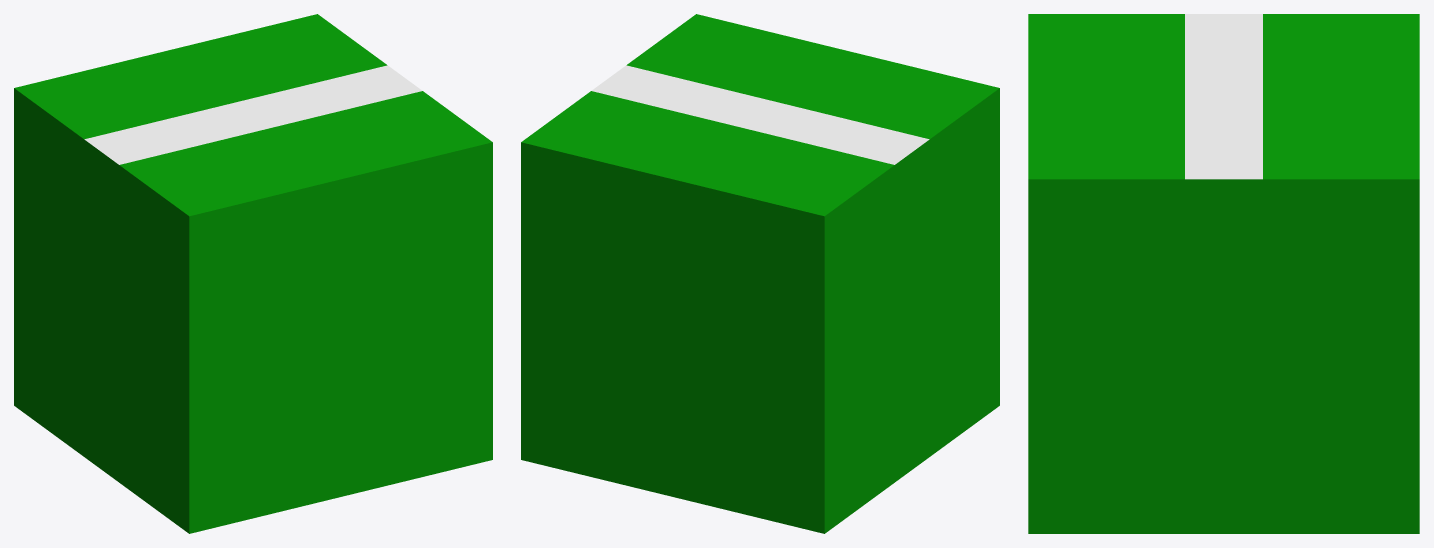
File: FiveStraight.obj
The picture shows the model from 3 angles, left to right: view 1: azimuth 30°, elevation 25°; view 2: azimuth 150°, elevation 25°; view 3: azimuth 270°, elevation 25°; orthographic projection. The views are drawn at different scales.
Parts seen in each view (by area): view 1: Cube_Cube_Material.002, Cube_Cube_Material.001; view 2: Cube_Cube_Material.002, Cube_Cube_Material.001; view 3: Cube_Cube_Material.002, Cube_Cube_Material.001.
Boxes of the visible parts, bbox=[...] form: Cube_Cube_Material.002: bbox=[14, 14, 492, 533]; Cube_Cube_Material.001: bbox=[84, 65, 422, 164]; Cube_Cube_Material.002: bbox=[521, 14, 999, 533]; Cube_Cube_Material.001: bbox=[591, 65, 929, 164]; Cube_Cube_Material.002: bbox=[1028, 14, 1419, 533]; Cube_Cube_Material.001: bbox=[1185, 14, 1262, 179].
Bounding box in the file's own units: 2 × 2 × 2.
